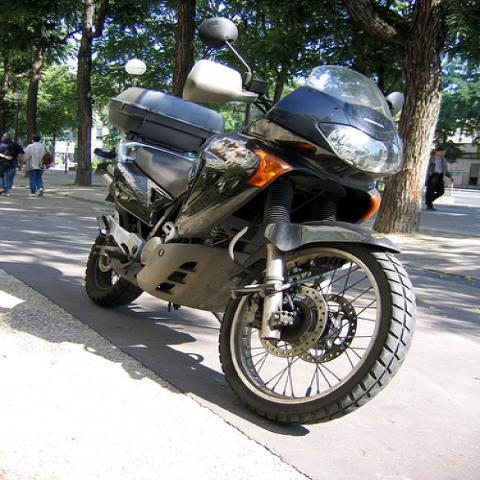motorcycle: (83, 18, 415, 425)
